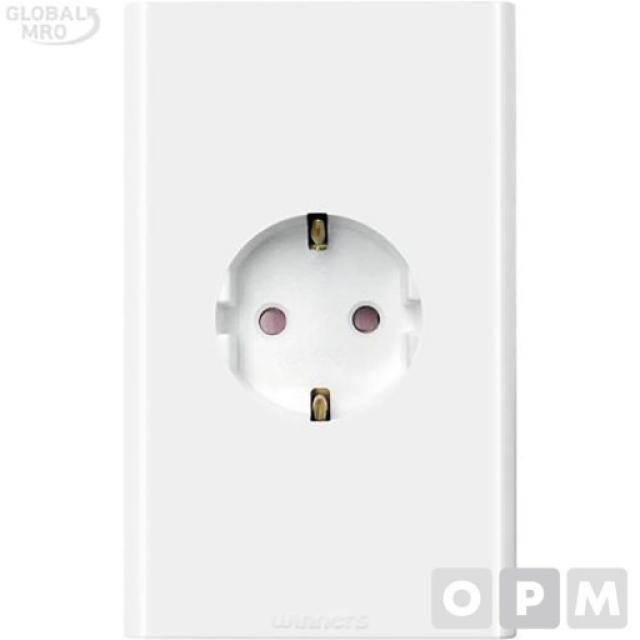typeb: (94, 0, 560, 640)
